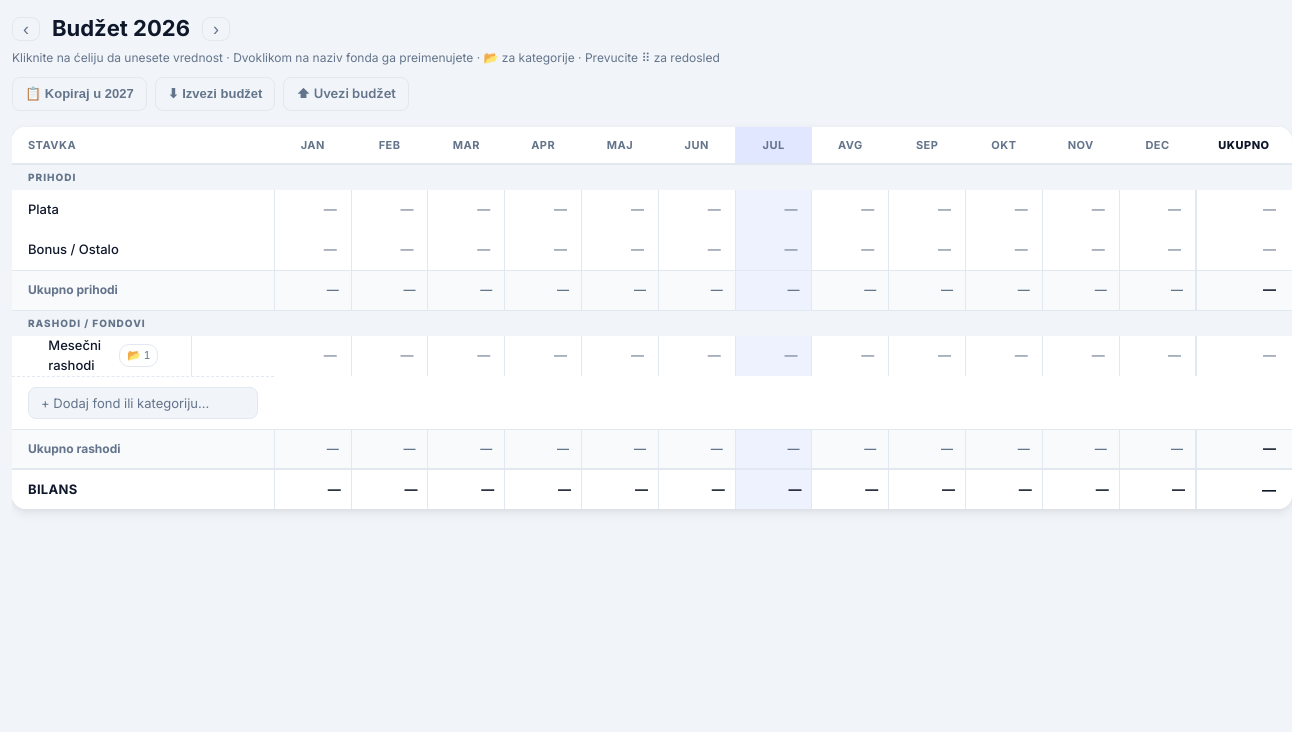
Test: BudgetView — pill interaction › mapped category pill shows a check indicator
Click the button titled "Kategorije troškova za ovaj fond" at [139, 356], box 119,344 -> 158,367
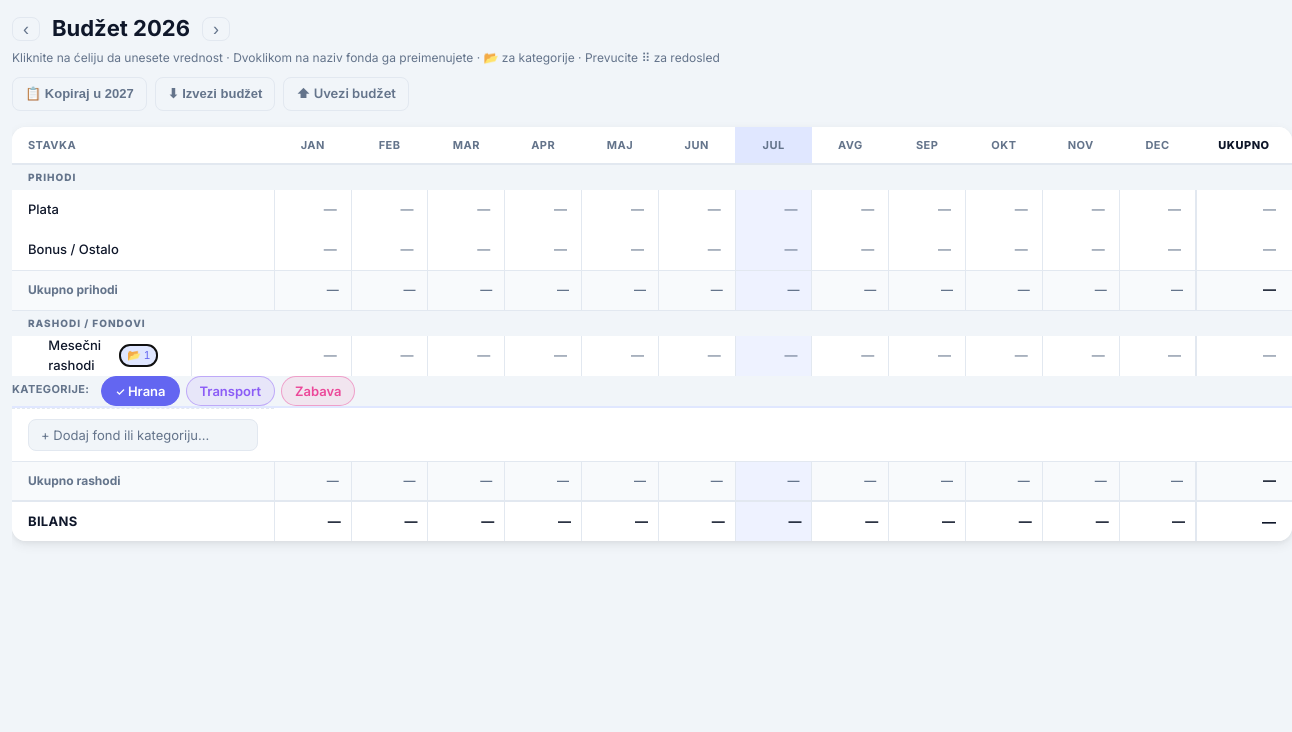
Expected: the text "✓" is shown, 115,384 -> 128,398
